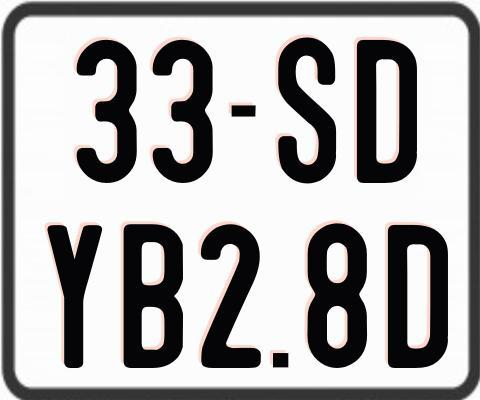2: (200, 224, 263, 370)
3: (77, 40, 137, 186), (153, 38, 213, 183)
8: (306, 220, 371, 370)
B: (122, 223, 187, 372)
D: (356, 38, 421, 184), (388, 223, 448, 372)
S: (278, 34, 337, 180)
Y: (46, 223, 101, 369)
